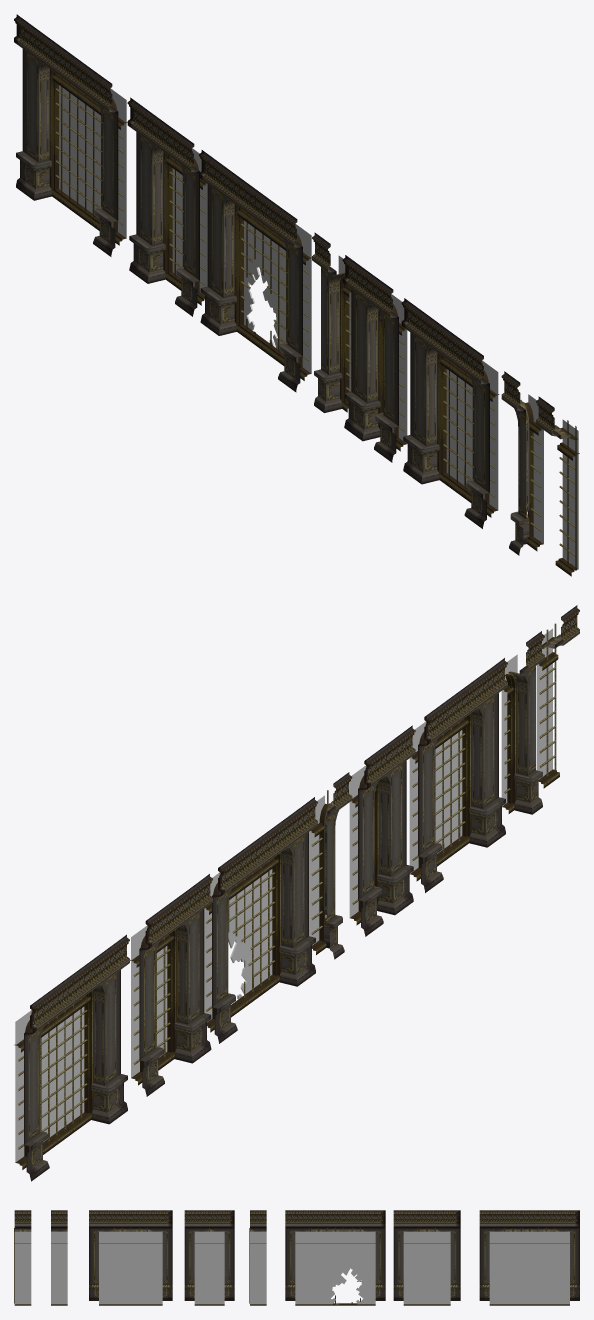
File: EnvMdrMD_Mansion_C_Window_300W.FBX
3 views of the same model, one above another, from view 1: azimuth 30°, elevation 25°; view 2: azimuth 150°, elevation 25°; view 3: azimuth 270°, elevation 25° (orthographic). The views are drawn at different scales.
Parts seen in each view (by area): view 1: EnvMdrMD_Mansion_C_Window_600W, EnvMdrMD_Mansion_C_Window_600W_Broken_B, EnvMdrMD_Mansion_C_Window_500W, EnvMdrMD_Mansion_C_Window_400W, EnvMdrMD_Mansion_C_Window_300W, EnvMdrMD_Mansion_C_Window_Start, EnvMdrMD_Mansion_C_Window_End, EnvMdrMD_Mansion_C_Window_Loop; view 2: EnvMdrMD_Mansion_C_Window_600W, EnvMdrMD_Mansion_C_Window_600W_Broken_B, EnvMdrMD_Mansion_C_Window_500W, EnvMdrMD_Mansion_C_Window_400W, EnvMdrMD_Mansion_C_Window_300W, EnvMdrMD_Mansion_C_Window_End, EnvMdrMD_Mansion_C_Window_Start, EnvMdrMD_Mansion_C_Window_Loop; view 3: EnvMdrMD_Mansion_C_Window_600W, EnvMdrMD_Mansion_C_Window_600W_Broken_B, EnvMdrMD_Mansion_C_Window_500W, EnvMdrMD_Mansion_C_Window_400W, EnvMdrMD_Mansion_C_Window_300W, EnvMdrMD_Mansion_C_Window_Loop, EnvMdrMD_Mansion_C_Window_Start, EnvMdrMD_Mansion_C_Window_End.
Part boxes in pixels (left/top/right/bottom): EnvMdrMD_Mansion_C_Window_600W: left=14, top=14, right=127, bottom=256; EnvMdrMD_Mansion_C_Window_600W_Broken_B: left=199, top=150, right=311, bottom=392; EnvMdrMD_Mansion_C_Window_500W: left=401, top=298, right=499, bottom=528; EnvMdrMD_Mansion_C_Window_400W: left=127, top=97, right=207, bottom=316; EnvMdrMD_Mansion_C_Window_300W: left=342, top=255, right=407, bottom=462; EnvMdrMD_Mansion_C_Window_Start: left=312, top=232, right=351, bottom=412; EnvMdrMD_Mansion_C_Window_End: left=501, top=371, right=543, bottom=555; EnvMdrMD_Mansion_C_Window_Loop: left=536, top=396, right=579, bottom=576; EnvMdrMD_Mansion_C_Window_600W: left=14, top=934, right=129, bottom=1181; EnvMdrMD_Mansion_C_Window_600W_Broken_B: left=204, top=797, right=317, bottom=1043; EnvMdrMD_Mansion_C_Window_500W: left=409, top=658, right=507, bottom=892; EnvMdrMD_Mansion_C_Window_400W: left=130, top=874, right=212, bottom=1096; EnvMdrMD_Mansion_C_Window_300W: left=349, top=725, right=415, bottom=936; EnvMdrMD_Mansion_C_Window_End: left=501, top=631, right=544, bottom=814; EnvMdrMD_Mansion_C_Window_Start: left=309, top=772, right=352, bottom=959; EnvMdrMD_Mansion_C_Window_Loop: left=536, top=605, right=579, bottom=788; EnvMdrMD_Mansion_C_Window_600W: left=479, top=1210, right=579, bottom=1305; EnvMdrMD_Mansion_C_Window_600W_Broken_B: left=285, top=1210, right=385, bottom=1305; EnvMdrMD_Mansion_C_Window_500W: left=89, top=1210, right=172, bottom=1305; EnvMdrMD_Mansion_C_Window_400W: left=393, top=1210, right=460, bottom=1305; EnvMdrMD_Mansion_C_Window_300W: left=184, top=1210, right=234, bottom=1305; EnvMdrMD_Mansion_C_Window_Loop: left=14, top=1210, right=31, bottom=1305; EnvMdrMD_Mansion_C_Window_Start: left=249, top=1210, right=266, bottom=1305; EnvMdrMD_Mansion_C_Window_End: left=51, top=1210, right=67, bottom=1305.
Bounding box in the file's own units: 102 × 600 × 3384.
